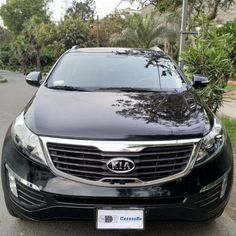Camioneta: (3, 39, 230, 222)
